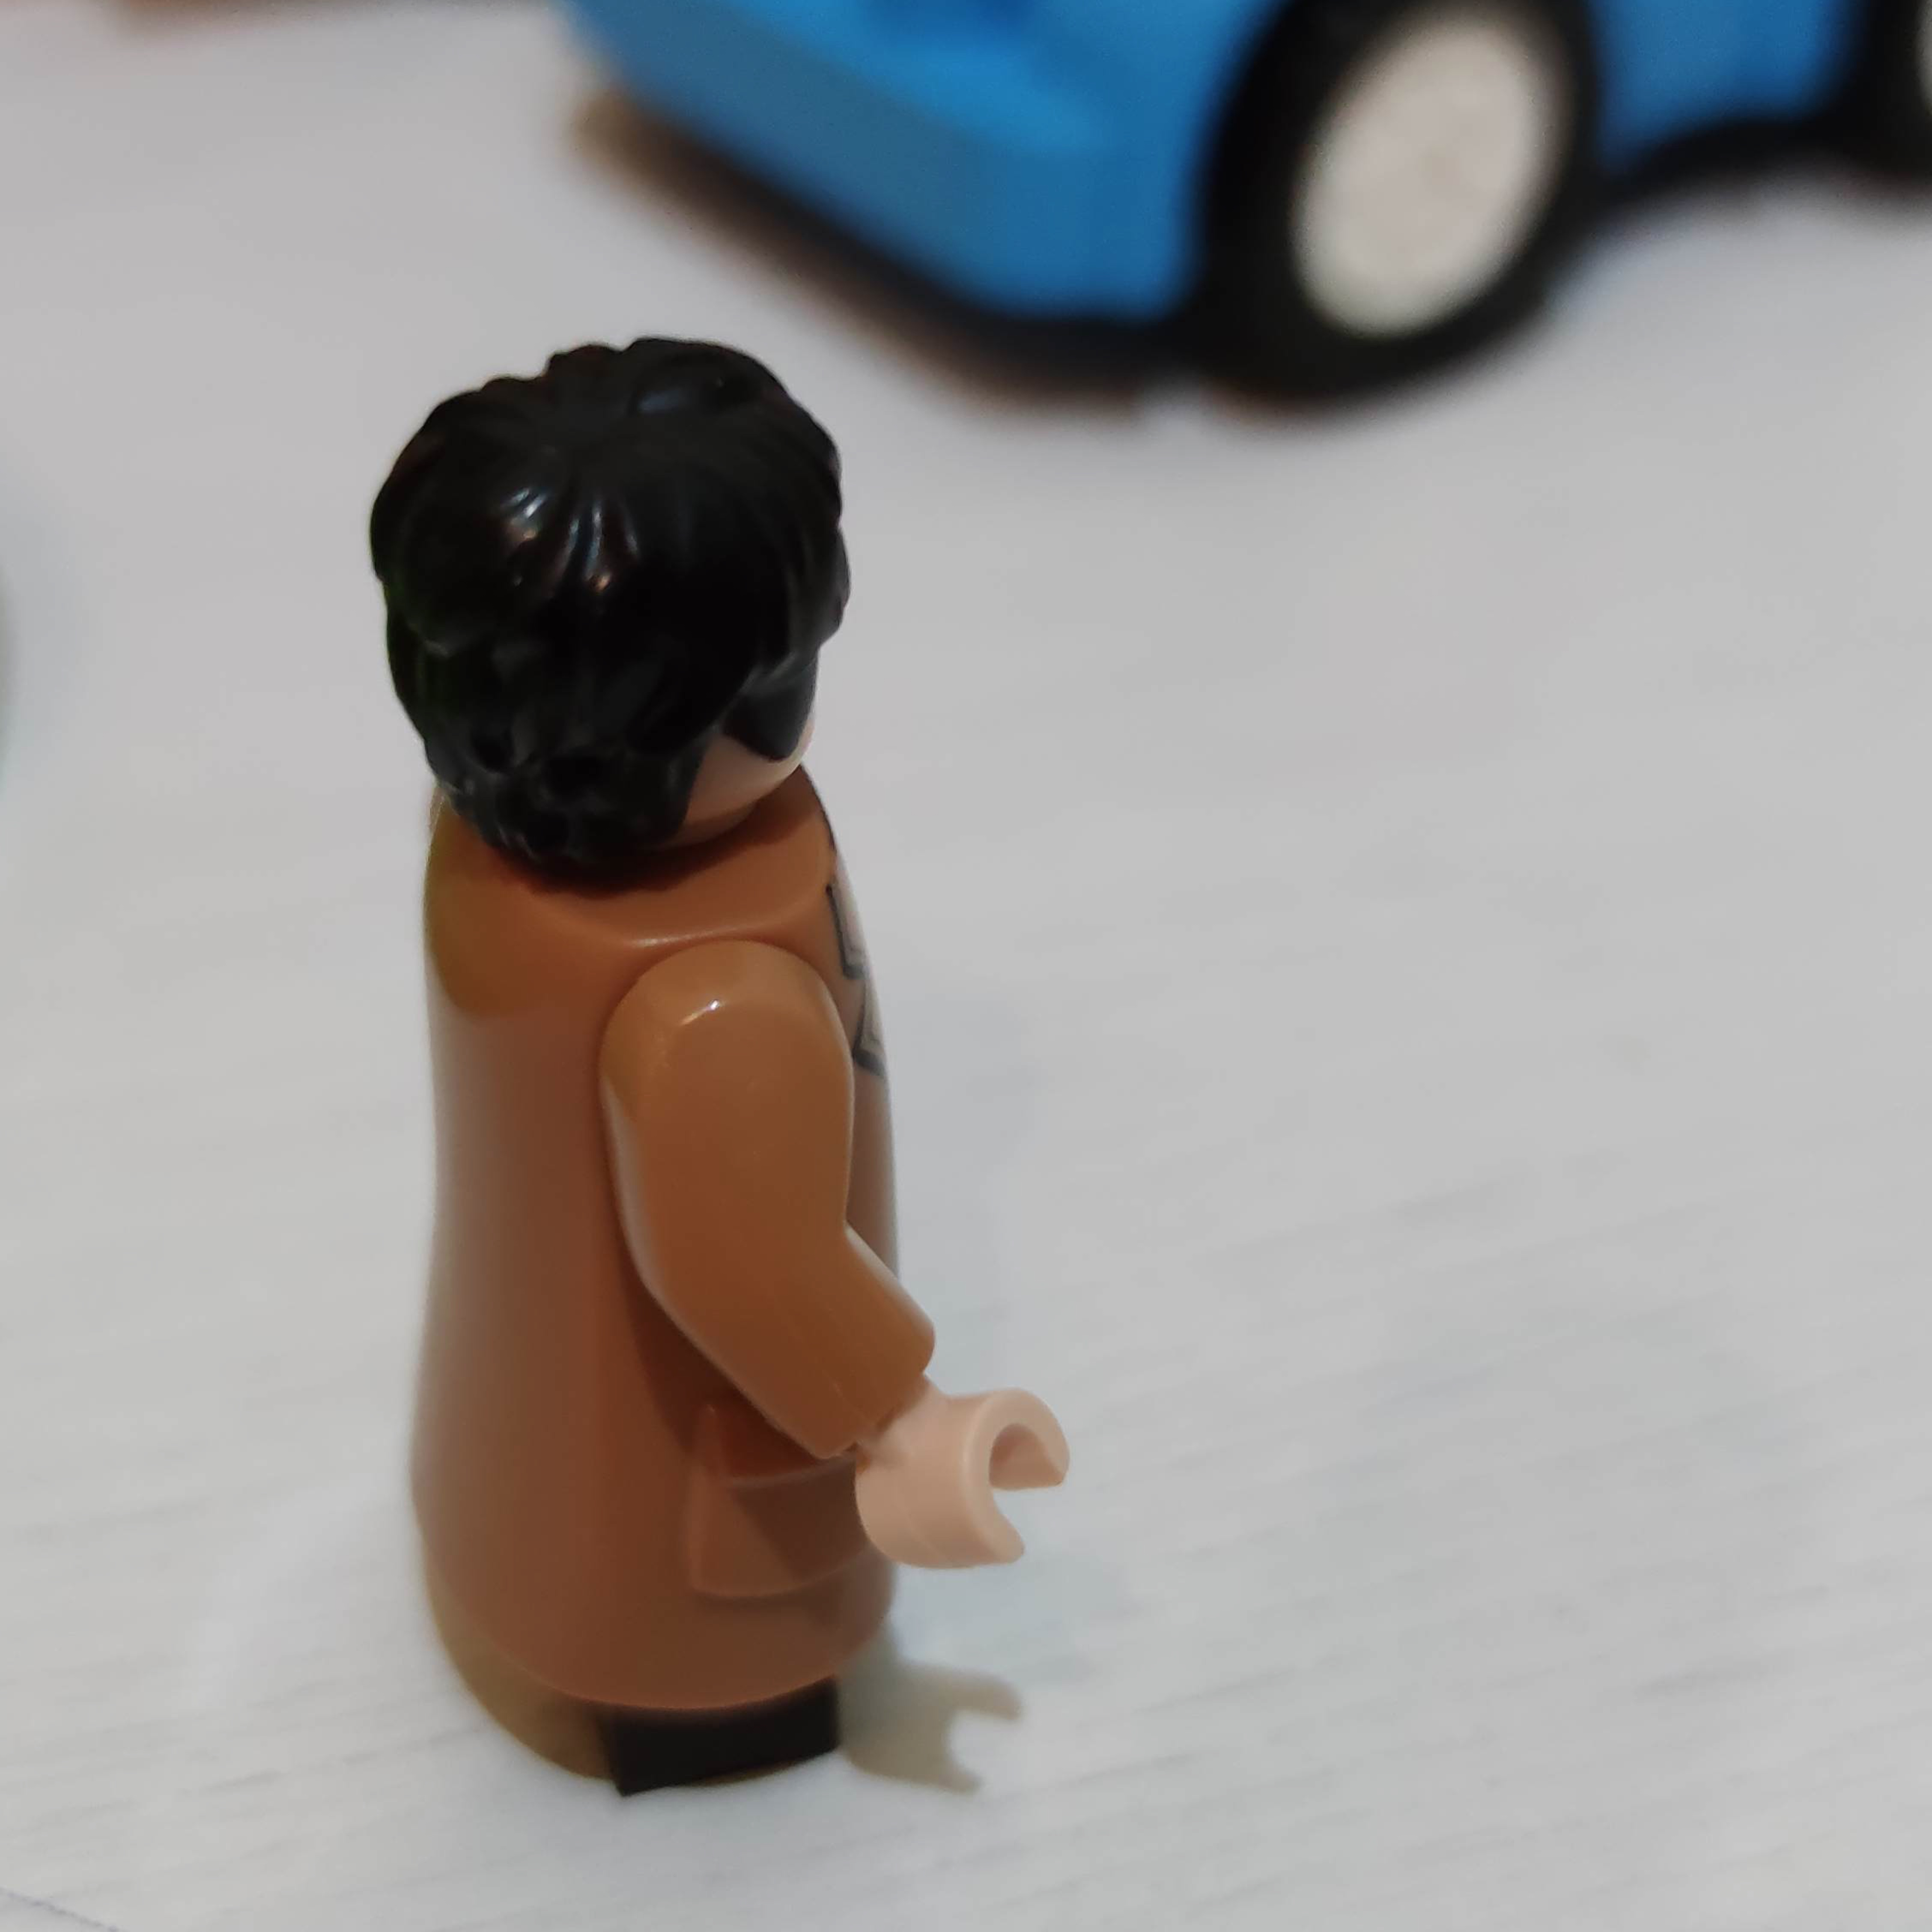lego: (372, 336, 1072, 1798)
